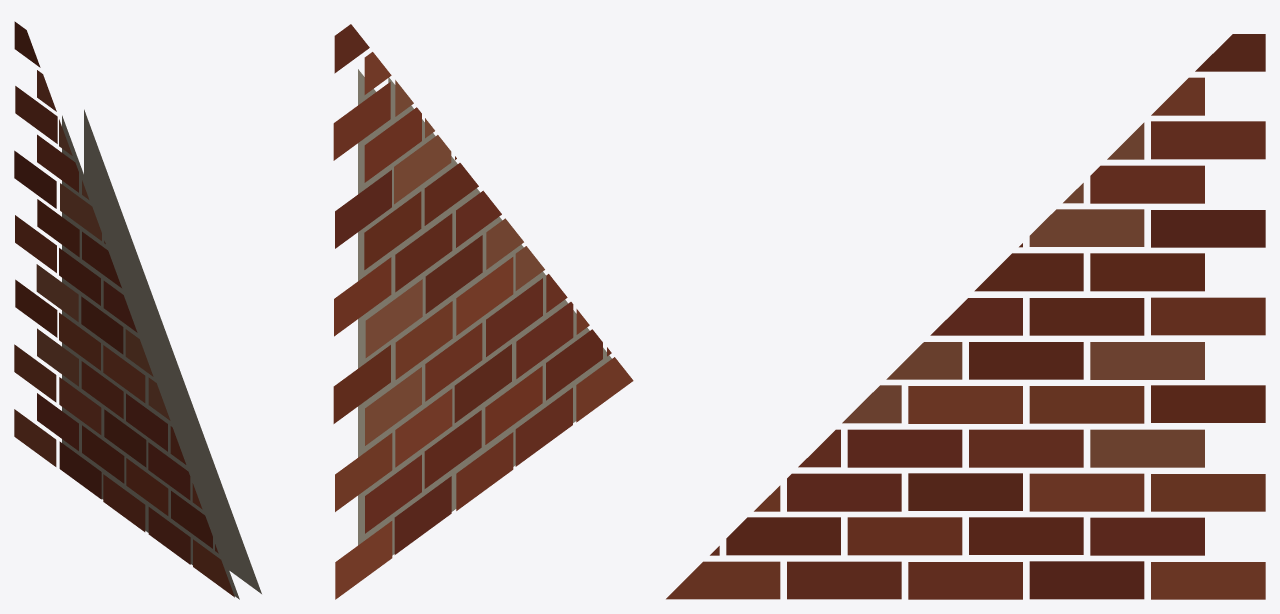
The model's file is wall-brick-gable-r-steep.glb.
3 renders of one model, left to right at view 1: azimuth 30°, elevation 25°; view 2: azimuth 150°, elevation 25°; view 3: azimuth 270°, elevation 25°, orthographic. The views are drawn at different scales.
Parts seen in each view (by area): view 1: wall-brick-gable-r-steep; view 2: wall-brick-gable-r-steep; view 3: wall-brick-gable-r-steep.
Boxes of the visible parts, x1=… form: wall-brick-gable-r-steep: x1=14, y1=21, x2=261, y2=599; wall-brick-gable-r-steep: x1=333, y1=24, x2=633, y2=599; wall-brick-gable-r-steep: x1=666, y1=34, x2=1265, y2=599.
Size of the model in its own units: 0.0999 by 1.29 by 1.24.
